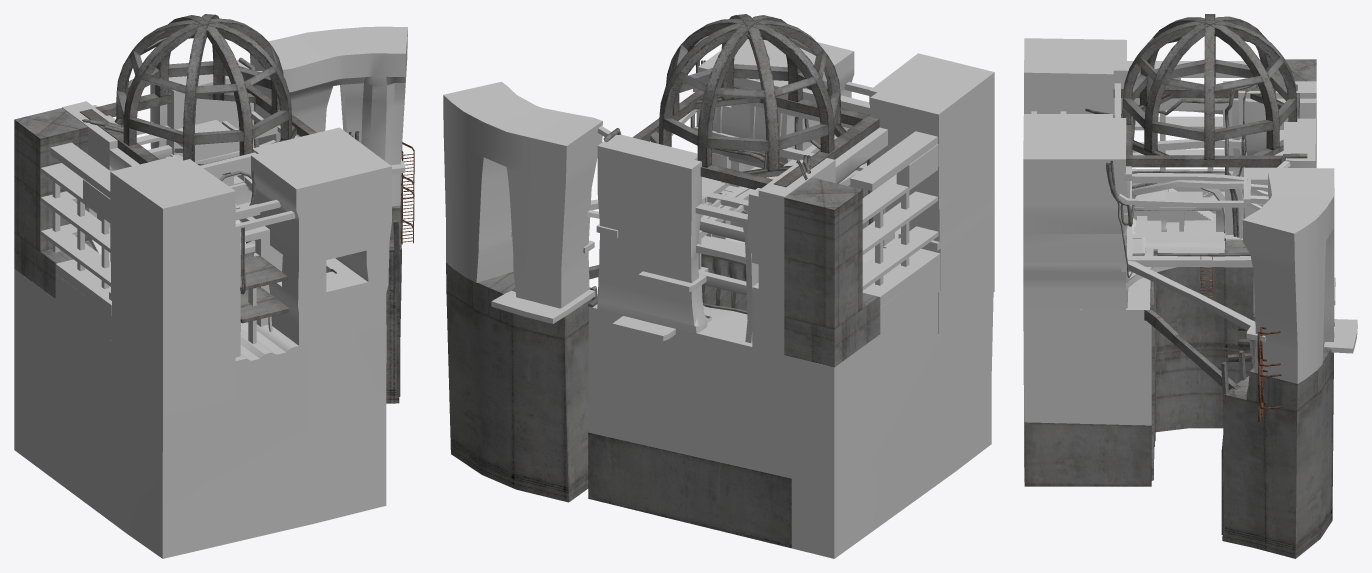
File: SM_StLucia_02.fbx
3 views of the same model, side by side, from view 1: azimuth 30°, elevation 25°; view 2: azimuth 150°, elevation 25°; view 3: azimuth 270°, elevation 25° (orthographic). The views are drawn at different scales.
Visible parts, largest first — view 1: SM_StLucia_02, SM_BetonMorph_00.002, SM_BetonMorph_00.003, SM_BetonMorph_04.001, SM_BetonMorph_01.001, SM_StLucia_02.001, SM_BetonMorph_03.001, LAdder.001, SM_BetonMorph_02.001; view 2: SM_BetonMorph_00.003, SM_BetonMorph_00.002, SM_StLucia_02, SM_BetonMorph_04.001, SM_BetonMorph_01.001, SM_BetonMorph_02.001, SM_StLucia_02.001, SM_BetonMorph_03.001; view 3: SM_BetonMorph_00.003, SM_BetonMorph_00.002, SM_StLucia_02, SM_BetonMorph_04.001, SM_BetonMorph_02.001, SM_BetonMorph_03.001, SM_BetonMorph_01.001, LAdder.001, SM_StLucia_02.001.
Part boxes in pixels (bbox=[...]): SM_StLucia_02: bbox=[14, 101, 391, 416]; SM_BetonMorph_00.002: bbox=[14, 269, 386, 558]; SM_BetonMorph_00.003: bbox=[147, 26, 407, 403]; SM_BetonMorph_04.001: bbox=[80, 14, 316, 174]; SM_BetonMorph_01.001: bbox=[40, 142, 110, 288]; SM_StLucia_02.001: bbox=[55, 274, 111, 340]; SM_BetonMorph_03.001: bbox=[82, 31, 359, 294]; LAdder.001: bbox=[331, 142, 414, 273]; SM_BetonMorph_02.001: bbox=[136, 111, 263, 256]; SM_BetonMorph_00.003: bbox=[443, 81, 747, 502]; SM_BetonMorph_00.002: bbox=[588, 235, 993, 558]; SM_StLucia_02: bbox=[693, 39, 994, 409]; SM_BetonMorph_04.001: bbox=[633, 14, 879, 189]; SM_BetonMorph_01.001: bbox=[850, 131, 938, 290]; SM_BetonMorph_02.001: bbox=[590, 144, 868, 343]; SM_StLucia_02.001: bbox=[879, 264, 940, 334]; SM_BetonMorph_03.001: bbox=[603, 34, 872, 224]; SM_BetonMorph_00.003: bbox=[1118, 118, 1357, 558]; SM_BetonMorph_00.002: bbox=[1023, 213, 1253, 486]; SM_StLucia_02: bbox=[1023, 38, 1316, 310]; SM_BetonMorph_04.001: bbox=[1113, 14, 1299, 167]; SM_BetonMorph_02.001: bbox=[1126, 98, 1283, 330]; SM_BetonMorph_03.001: bbox=[1085, 50, 1307, 277]; SM_BetonMorph_01.001: bbox=[1127, 61, 1246, 170]; LAdder.001: bbox=[1200, 255, 1281, 422]; SM_StLucia_02.001: bbox=[1133, 189, 1224, 225].
Bounding box in the file's own units: 6360 × 6883 × 4932.
